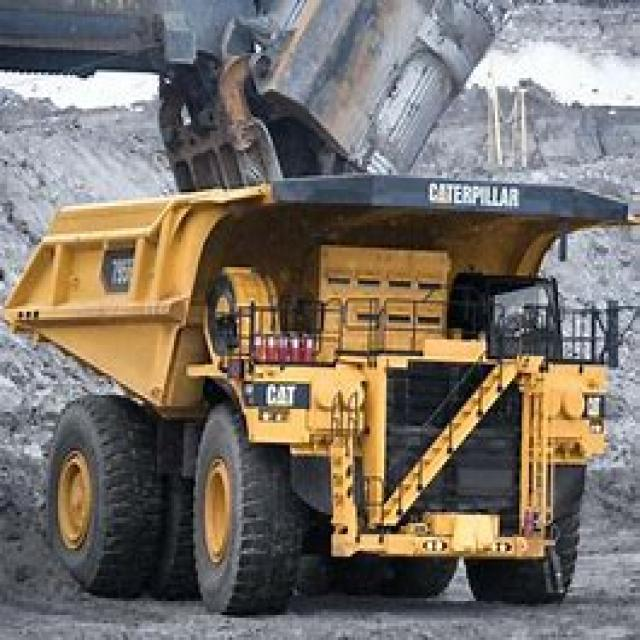dump_truck: (7, 170, 628, 604)
